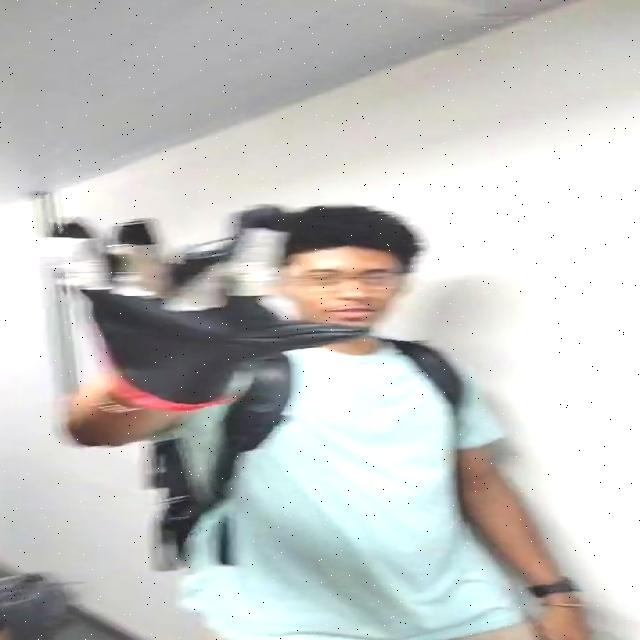Gloves: (48, 212, 350, 406)
